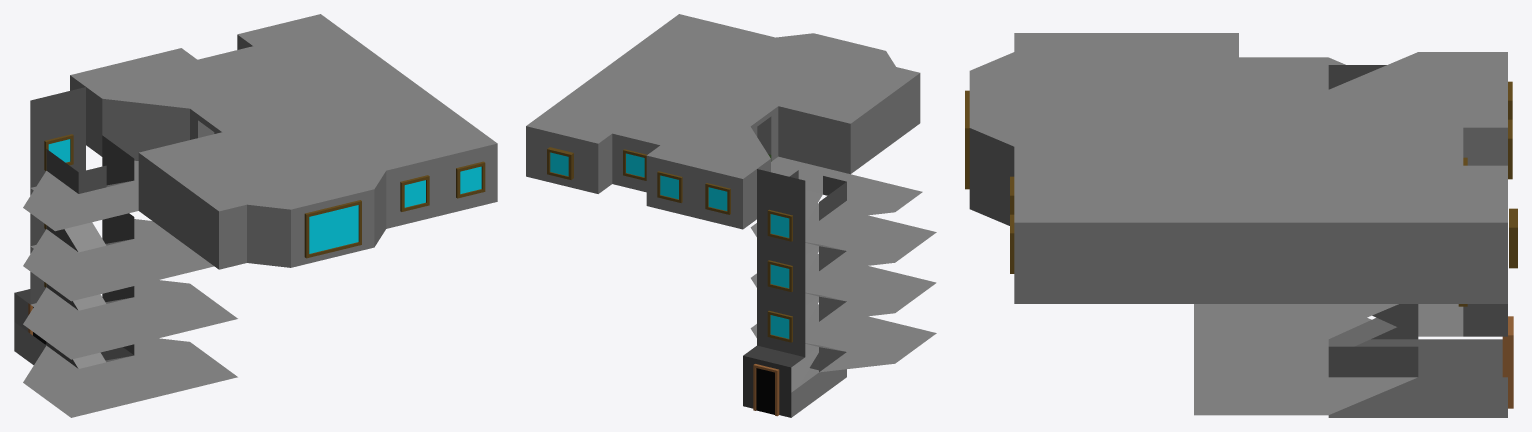
Rendered from level_02_mockup.fbx.
3 renders of one model, left to right at view 1: azimuth 30°, elevation 25°; view 2: azimuth 150°, elevation 25°; view 3: azimuth 270°, elevation 25°, orthographic. The views are drawn at different scales.
Parts seen in each view (by area): view 1: Plane.007, Plane.003, Plane.004, Plane.001, Plane.002, Plane.013, Plane.012, Plane.018; view 2: Plane.007, Plane.003, Plane.004, Plane.001, Plane.052, Plane.016, Plane.020, Plane.019, Plane.018, Plane.017, Plane.014, Plane.015; view 3: Plane.007, Plane.004, Plane.003, Plane.001, Plane.052, Plane.016.
Part boxes in pixels (<box>): Plane.007: <box>70,14,497,211</box>; Plane.003: <box>14,87,237,417</box>; Plane.004: <box>70,35,497,269</box>; Plane.001: <box>70,36,497,267</box>; Plane.002: <box>304,200,361,258</box>; Plane.013: <box>456,161,485,198</box>; Plane.012: <box>400,175,429,211</box>; Plane.018: <box>44,134,73,170</box>; Plane.007: <box>526,14,919,178</box>; Plane.003: <box>743,156,936,417</box>; Plane.004: <box>526,73,920,229</box>; Plane.001: <box>526,76,919,228</box>; Plane.052: <box>753,364,779,416</box>; Plane.016: <box>547,147,573,179</box>; Plane.020: <box>767,310,792,342</box>; Plane.019: <box>767,260,792,292</box>; Plane.018: <box>767,209,792,241</box>; Plane.017: <box>657,171,682,202</box>; Plane.014: <box>705,183,730,214</box>; Plane.015: <box>623,149,647,180</box>; Plane.007: <box>969,33,1507,222</box>; Plane.004: <box>969,127,1507,303</box>; Plane.003: <box>1194,57,1507,417</box>; Plane.001: <box>970,128,1507,303</box>; Plane.052: <box>1502,316,1513,408</box>; Plane.016: <box>1509,208,1517,268</box>.
Size of what is drawn, in the model's own units: 13 by 12.32 by 9.
